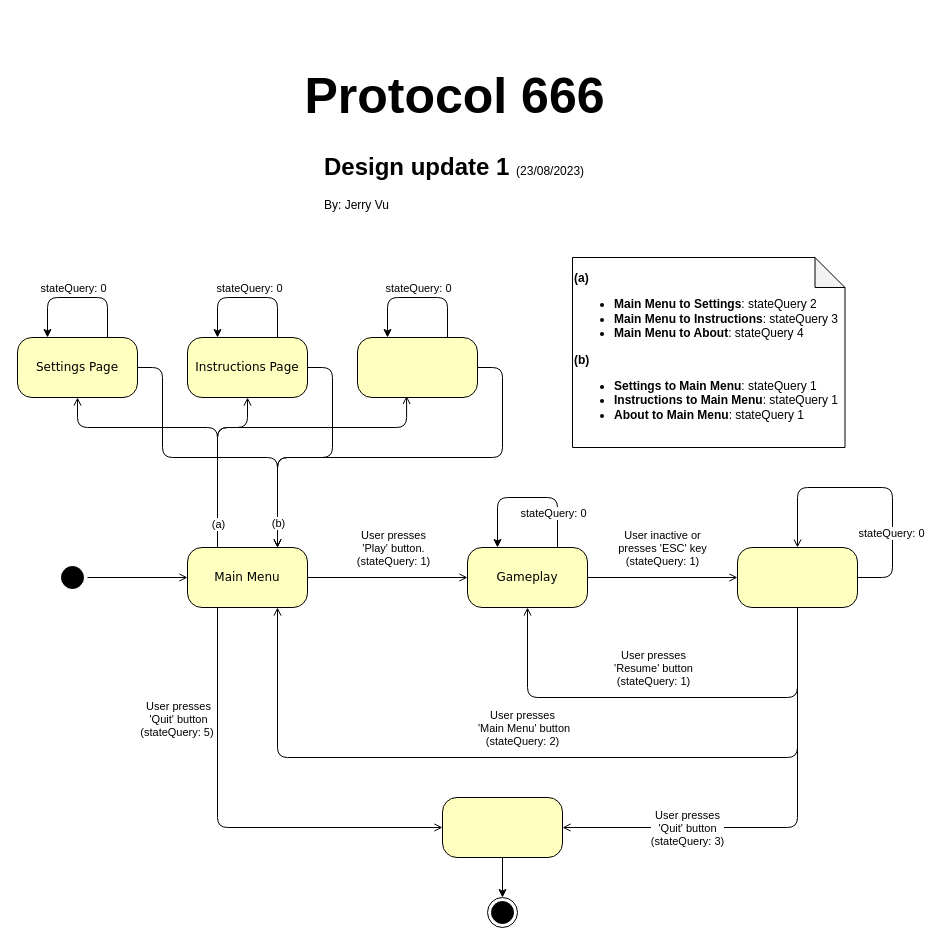
Image size: 941x945. Some labels were removed from this diagram. Each missing label, with the centre of its shape:
About Page: point 417,367
Paused: point 797,577
Quit: point 502,827
